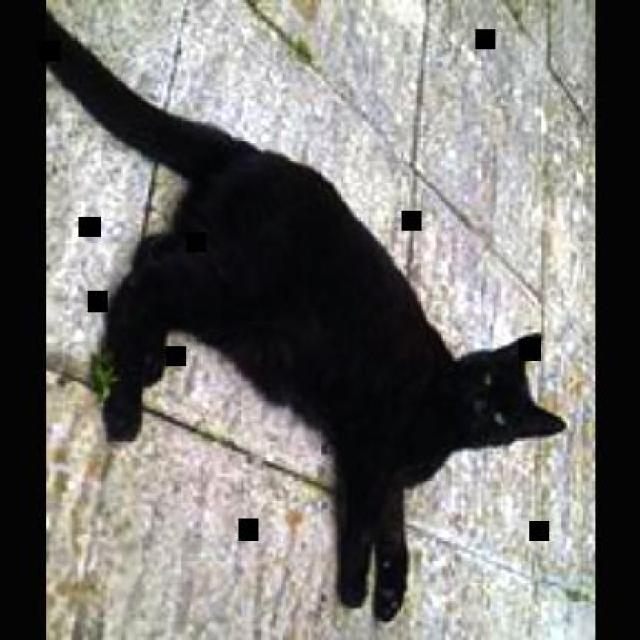unauthorized: (43, 4, 566, 622)
